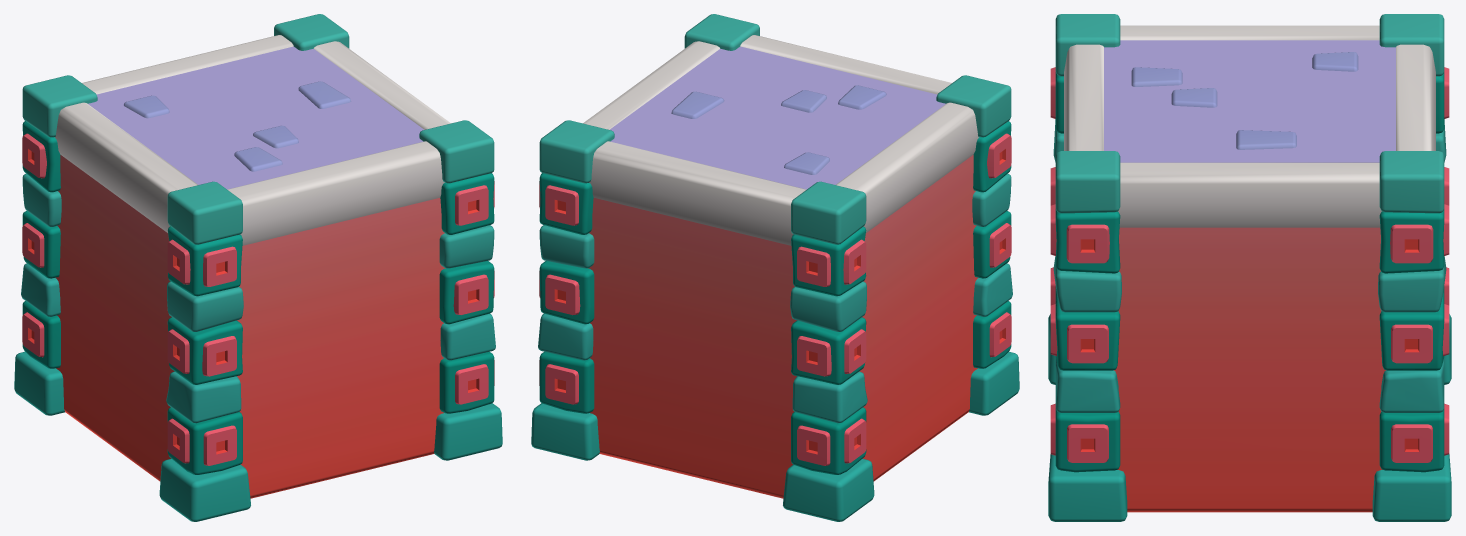
The model's file is House_02.glb.
3 renders of one model, left to right at view 1: azimuth 30°, elevation 25°; view 2: azimuth 150°, elevation 25°; view 3: azimuth 270°, elevation 25°, orthographic. The views are drawn at different scales.
Parts seen in each view (by area): view 1: House_02; view 2: House_02; view 3: House_02.
Boxes of the visible parts, x1,y1,x2,y2 form: House_02: (14,14,502,521); House_02: (531,14,1019,521); House_02: (1048,14,1451,521).
Size of the model in its own units: 12.78 by 12.08 by 12.78.
1 material, 1 textured.
